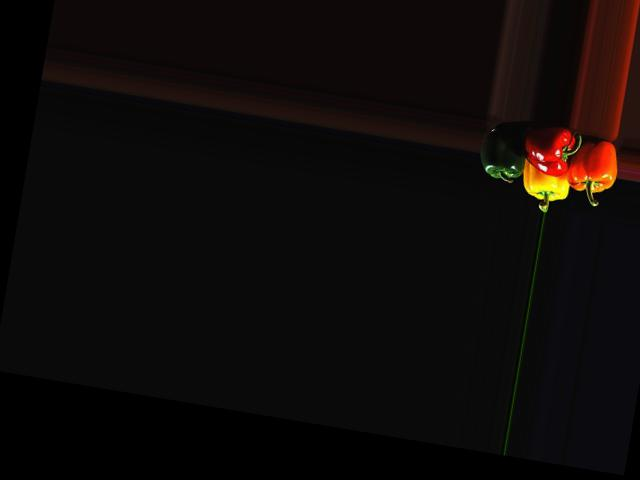bell_pepper: (563, 126, 623, 203)
